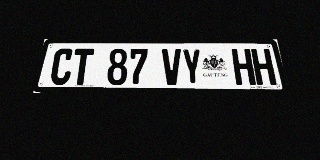7: (127, 49, 148, 85)
8: (106, 49, 128, 85)
C: (49, 49, 75, 85)
H: (251, 49, 277, 85), (231, 49, 256, 85)
T: (70, 49, 94, 85)
V: (162, 49, 182, 85)
Y: (181, 49, 203, 85)
